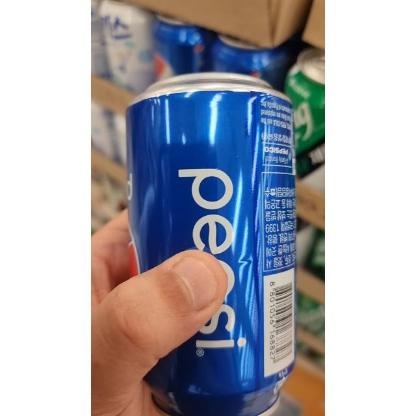Can: (117, 64, 299, 416)
